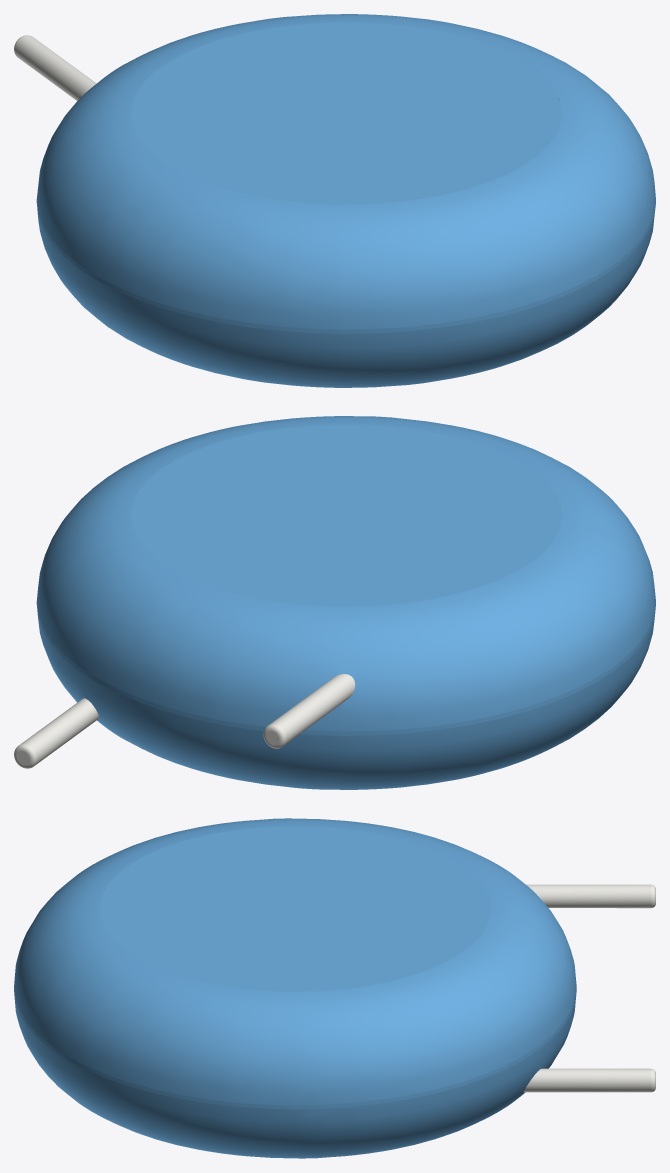
The model's file is RV_Disc_D21.5mm_W6.7mm_P10mm.glb.
The picture shows the model from 3 angles, top to bottom: view 1: azimuth 30°, elevation 25°; view 2: azimuth 150°, elevation 25°; view 3: azimuth 270°, elevation 25°; orthographic projection. The views are drawn at different scales.
Parts seen in each view (by area): view 1: Shape_IndexedFaceSet.001, Shape_IndexedFaceSet.003, Shape_IndexedFaceSet.002, Shape_IndexedFaceSet, Shape_IndexedFaceSet.004; view 2: Shape_IndexedFaceSet.001, Shape_IndexedFaceSet.003, Shape_IndexedFaceSet.002, Shape_IndexedFaceSet, Shape_IndexedFaceSet.004, Shape_IndexedFaceSet.006; view 3: Shape_IndexedFaceSet.001, Shape_IndexedFaceSet.003, Shape_IndexedFaceSet.002, Shape_IndexedFaceSet.006, Shape_IndexedFaceSet.004, Shape_IndexedFaceSet.
Boxes of the visible parts, bbox=[...] form: Shape_IndexedFaceSet.001: bbox=[37, 14, 655, 329]; Shape_IndexedFaceSet.003: bbox=[131, 22, 561, 204]; Shape_IndexedFaceSet.002: bbox=[37, 206, 655, 387]; Shape_IndexedFaceSet: bbox=[36, 199, 655, 333]; Shape_IndexedFaceSet.004: bbox=[14, 35, 96, 100]; Shape_IndexedFaceSet.001: bbox=[37, 416, 655, 731]; Shape_IndexedFaceSet.003: bbox=[131, 424, 561, 606]; Shape_IndexedFaceSet.002: bbox=[37, 608, 655, 789]; Shape_IndexedFaceSet: bbox=[36, 601, 655, 735]; Shape_IndexedFaceSet.004: bbox=[269, 674, 355, 745]; Shape_IndexedFaceSet.006: bbox=[20, 698, 98, 765]; Shape_IndexedFaceSet.001: bbox=[14, 818, 576, 1105]; Shape_IndexedFaceSet.003: bbox=[100, 826, 490, 991]; Shape_IndexedFaceSet.002: bbox=[14, 992, 576, 1158]; Shape_IndexedFaceSet.006: bbox=[523, 1068, 651, 1092]; Shape_IndexedFaceSet.004: bbox=[526, 884, 651, 908]; Shape_IndexedFaceSet: bbox=[14, 988, 576, 1109].
Bounding box in the file's own units: 8.47 × 2.64 × 9.66.
